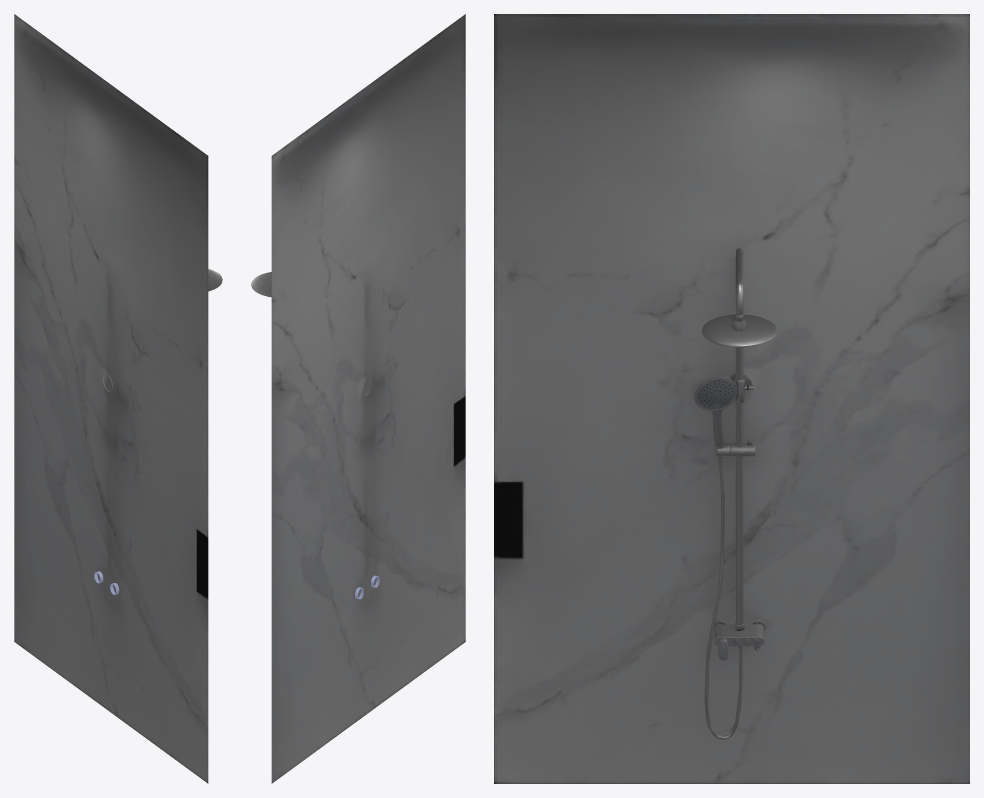
File: Rain_Forest_F160075_1.glb
The picture shows the model from 3 angles, left to right: view 1: azimuth 30°, elevation 25°; view 2: azimuth 150°, elevation 25°; view 3: azimuth 270°, elevation 25°; orthographic projection. The views are drawn at different scales.
Parts seen in each view (by area): view 1: Rain_Forest_F160075_1; view 2: Rain_Forest_F160075_1; view 3: Rain_Forest_F160075_1.
Boxes of the visible parts, box(x1,y1,x2,y2) form: Rain_Forest_F160075_1: box(14, 14, 222, 783); Rain_Forest_F160075_1: box(251, 14, 465, 783); Rain_Forest_F160075_1: box(494, 14, 969, 783).
Size of the model in its own units: 1.86 by 9.84 by 5.51.
Materials: 1 (1 with a texture image).
